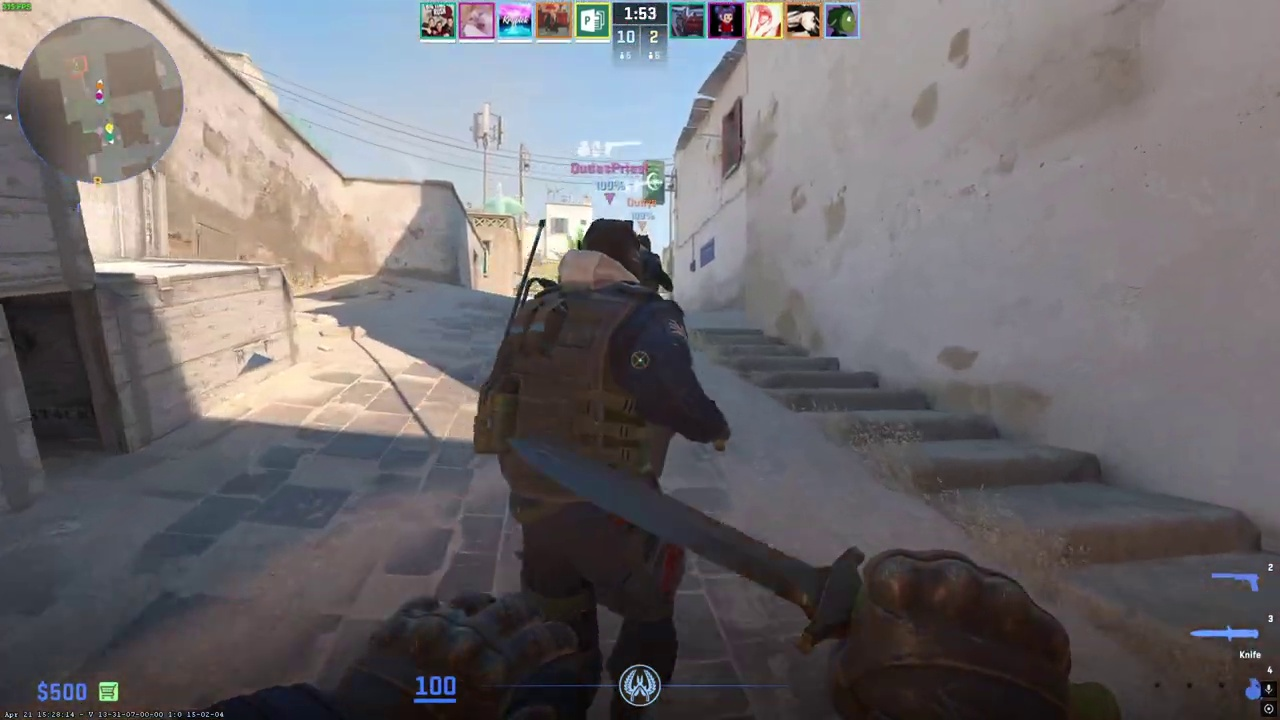CT: (493, 218, 706, 684)
